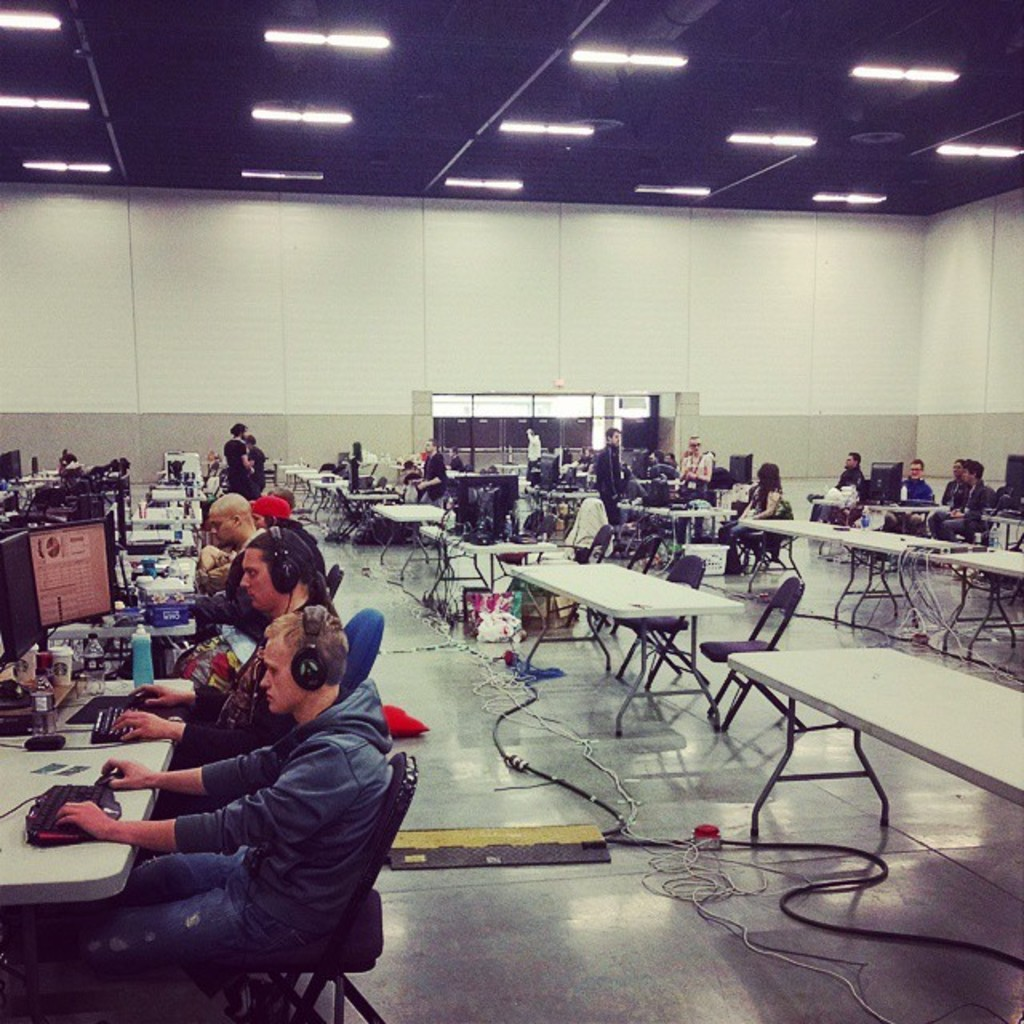Human_hand: (51, 733, 370, 864), (96, 754, 162, 790), (107, 709, 176, 742), (126, 678, 182, 709)
